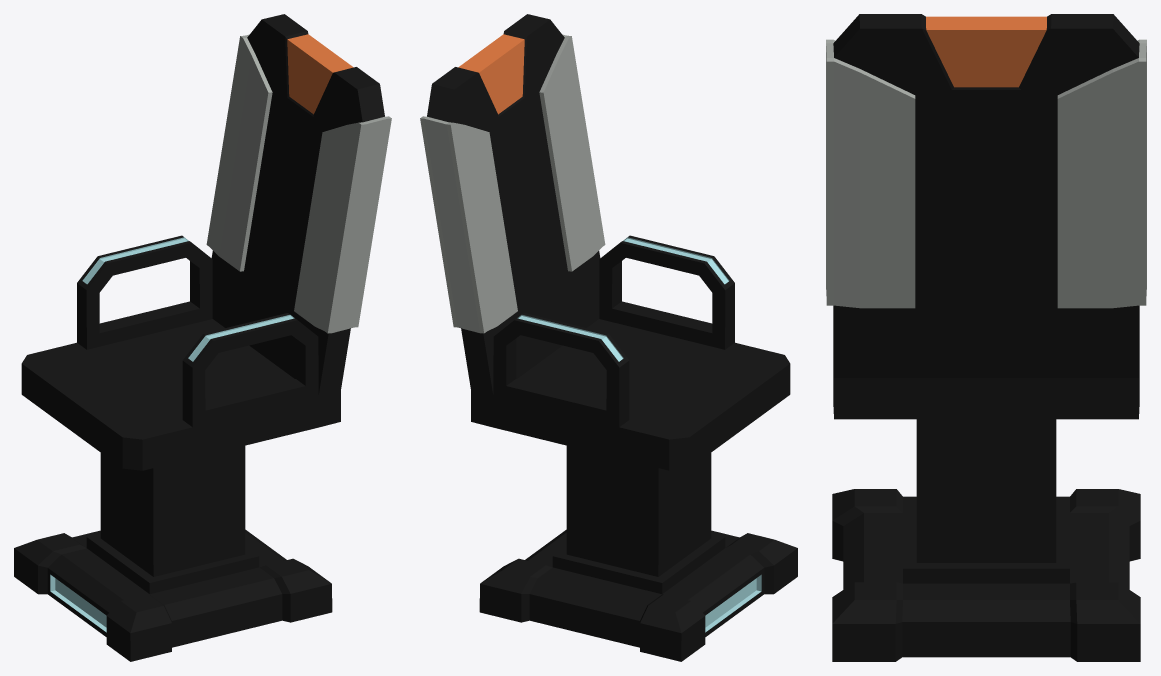
Rendered from chair.fbx.
The picture shows the model from 3 angles, left to right: view 1: azimuth 30°, elevation 25°; view 2: azimuth 150°, elevation 25°; view 3: azimuth 270°, elevation 25°; orthographic projection. The views are drawn at different scales.
Visible parts, largest first — view 1: chair; view 2: chair; view 3: chair.
Part boxes in pixels (x1,y1,x2,y2): chair: (14,14,391,661); chair: (420,14,797,661); chair: (826,14,1146,661).
Size of the model in its own units: 2.24 by 1.81 by 4.17.
